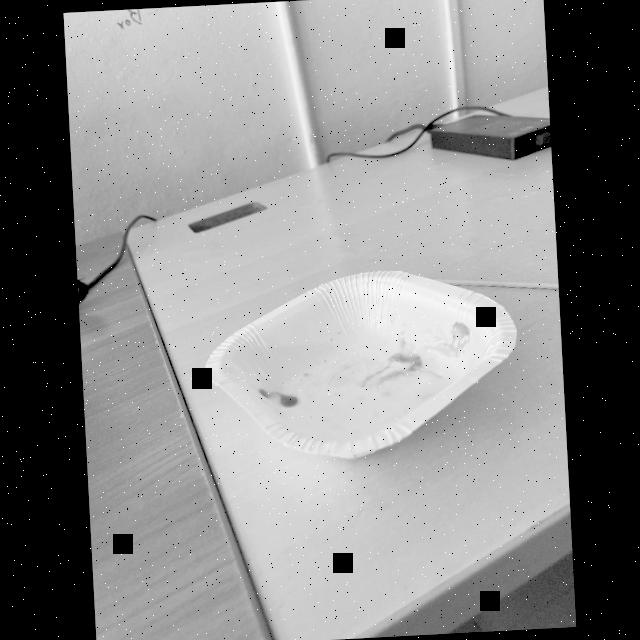cardboard_bowl: (194, 255, 527, 479)
stick: (438, 265, 559, 304)
